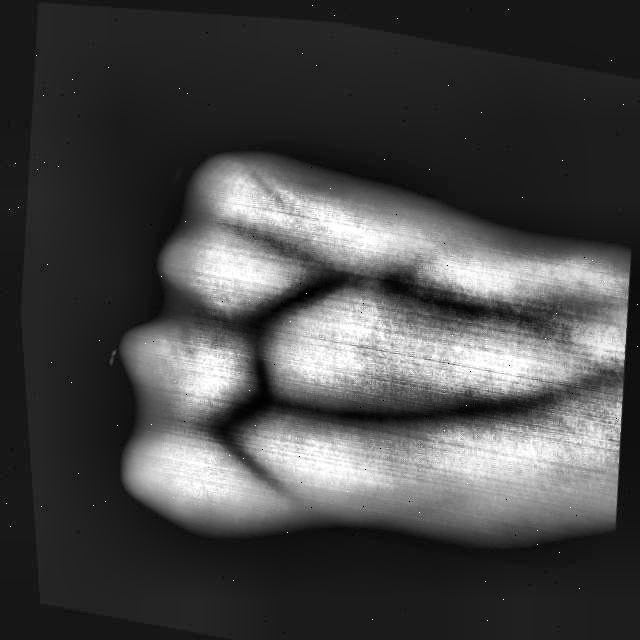Vein: (342, 395, 523, 427)
